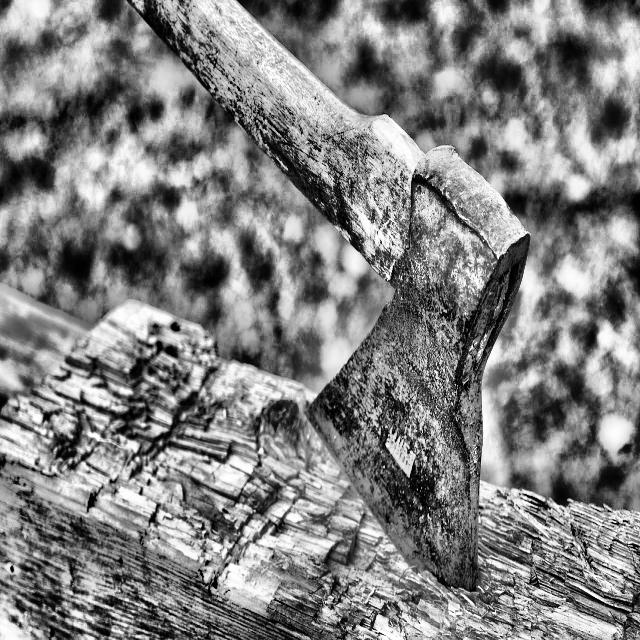kapak: (124, 0, 539, 595)
